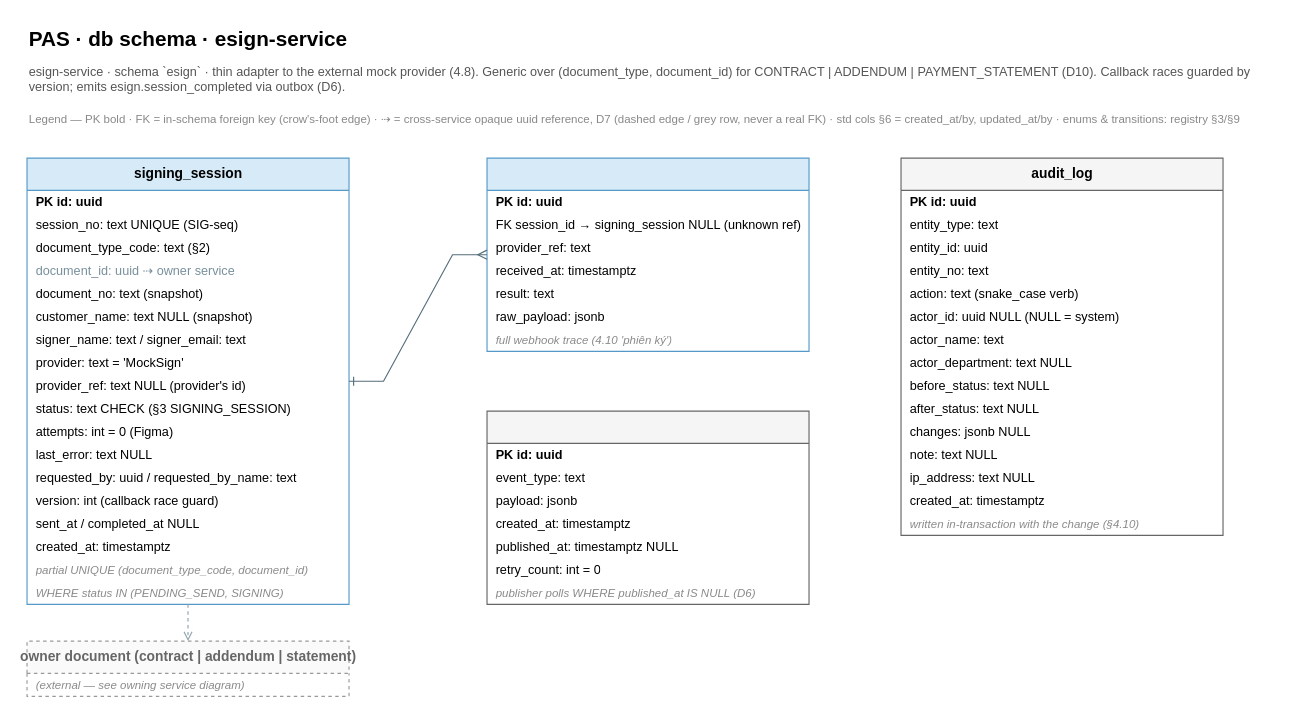
Some shapes in this 1311 by 716 pixel diagram are drawn without their labels. The shapes that lost their labels are listed below. From the top down, each one's box as (x1, y1, x2, y2) in pixels, then its label:
(486, 157, 809, 351): signing_callback_log
(486, 410, 809, 604): outbox
